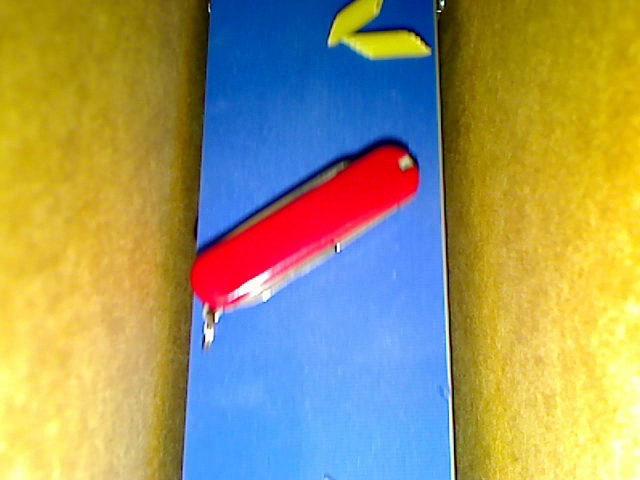penne: (340, 31, 432, 61), (327, 1, 383, 47)
